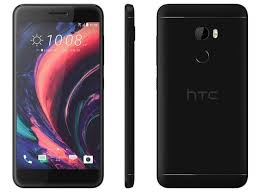htc: (153, 1, 251, 189), (9, 1, 107, 188)
